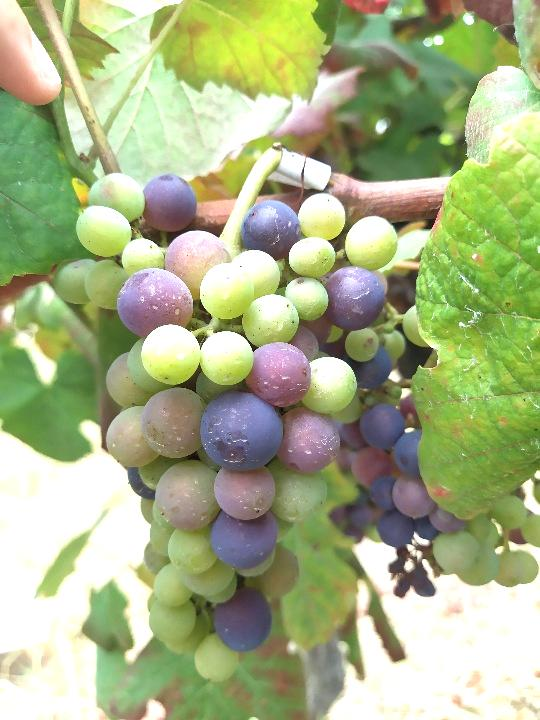grape: (73, 169, 404, 686)
